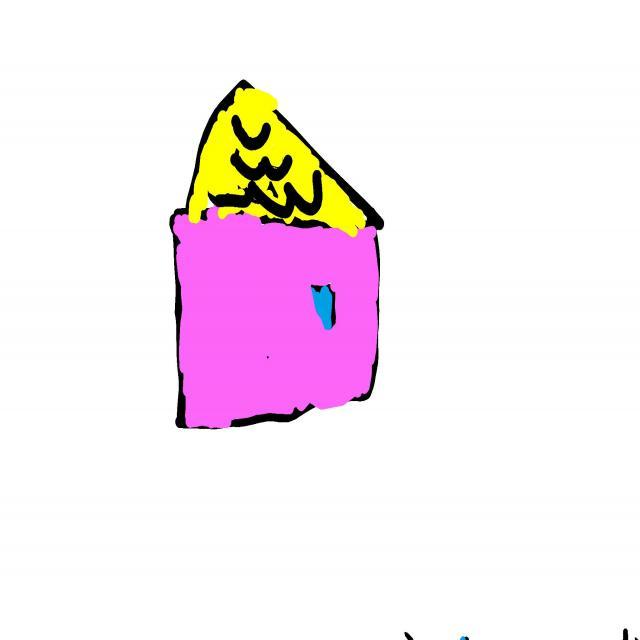house: (172, 80, 384, 429)
roof: (182, 78, 383, 228)
wall: (177, 209, 381, 422)
window: (312, 284, 336, 330)
